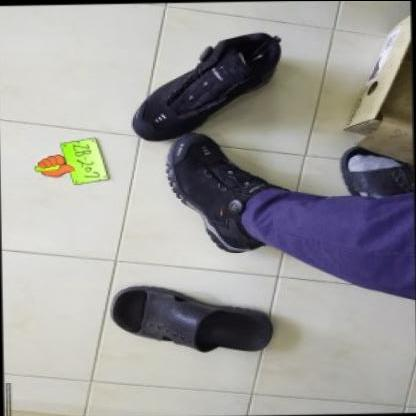safety-shoe: (165, 122, 273, 251)
